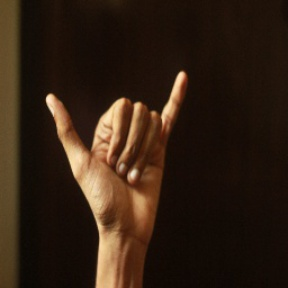J: (46, 54, 188, 237)
